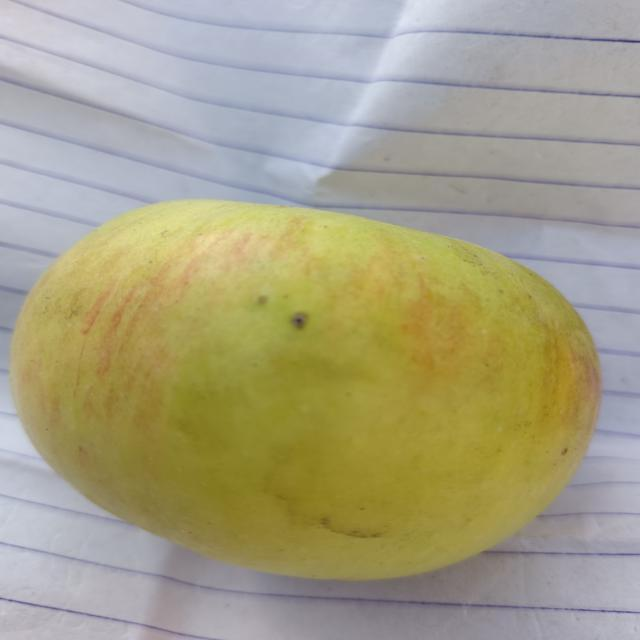Fresh Apple: (28, 203, 607, 580)
